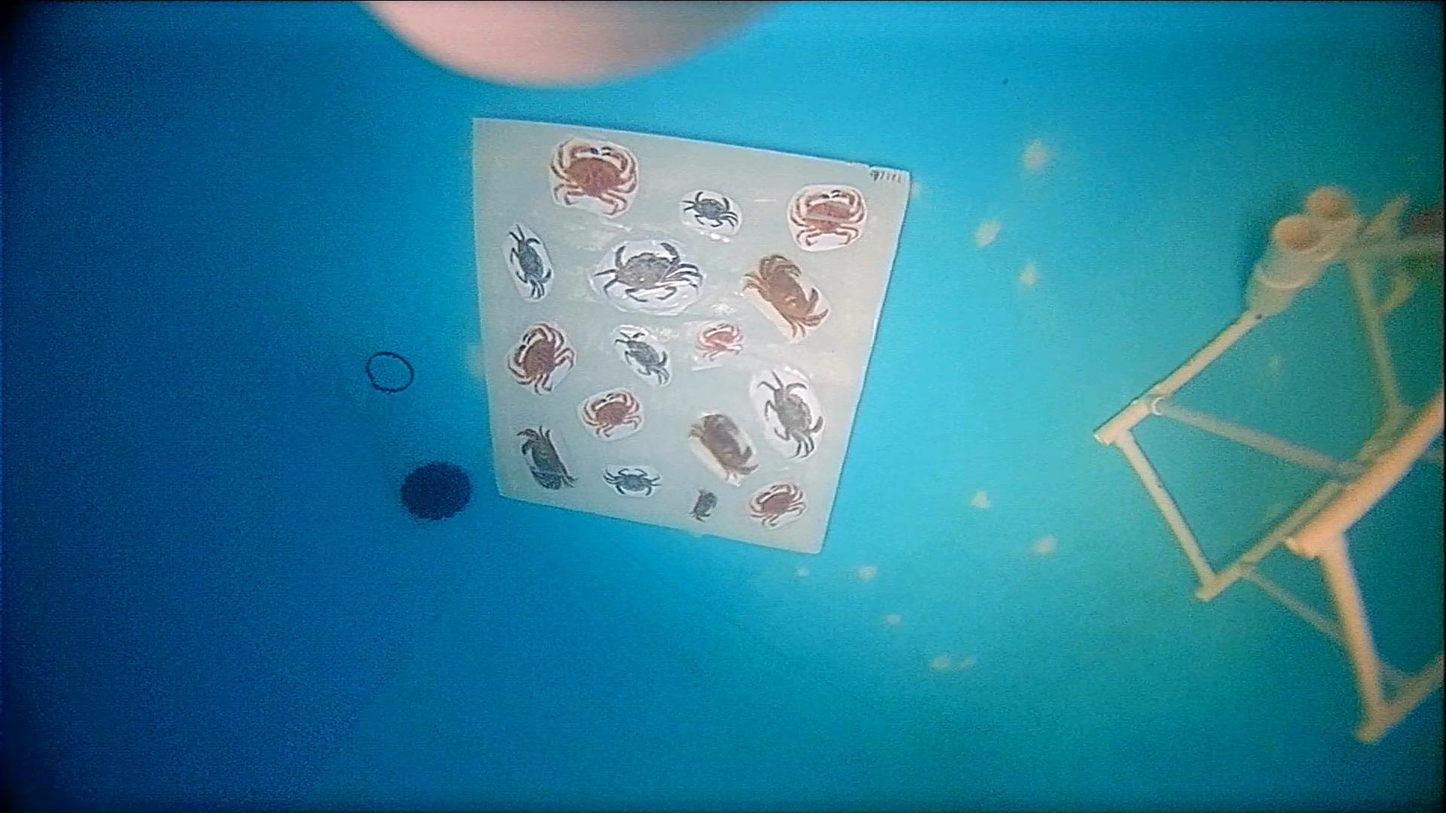GreenCrab: (594, 242, 701, 302), (758, 373, 823, 456), (503, 224, 554, 300), (684, 192, 738, 226)
